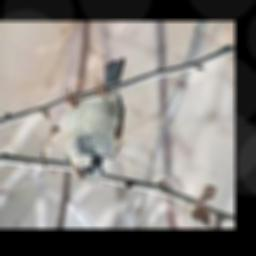Sparrow: (65, 59, 126, 184)
